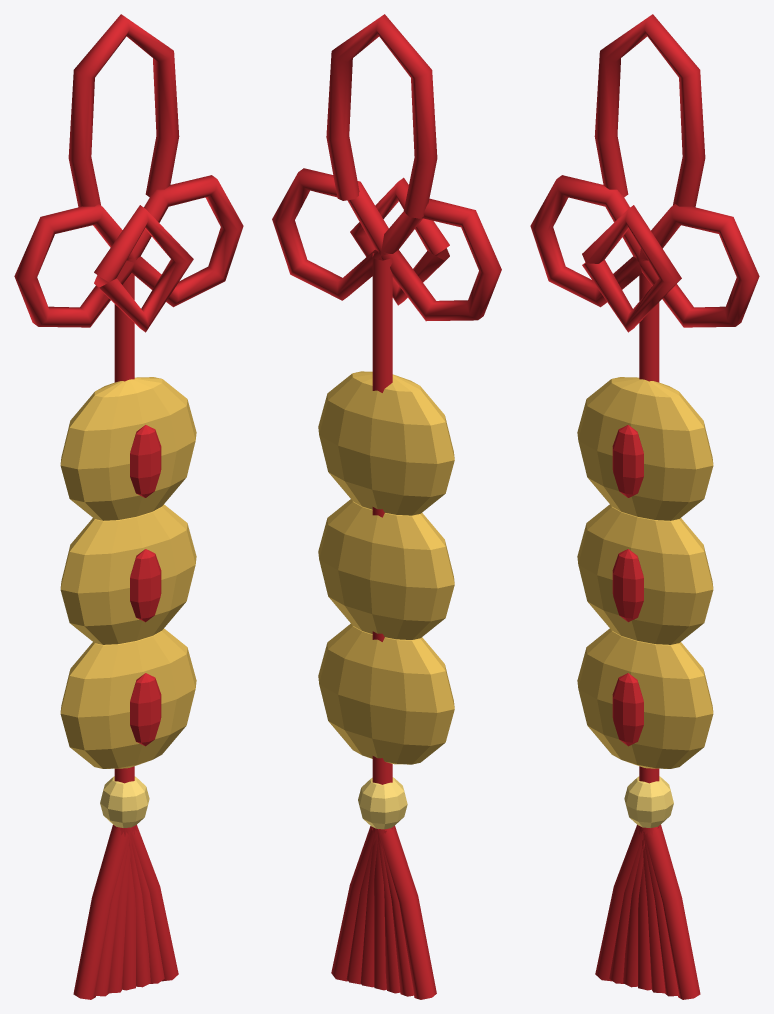
File: Nudo.fbx
3 views of the same model, side by side, from view 1: azimuth 30°, elevation 25°; view 2: azimuth 150°, elevation 25°; view 3: azimuth 330°, elevation 25° (orthographic).
Visible parts, largest first — view 1: Nudo buena fortuna | centro rojo 1, Nudo buena fortuna | asa simétrica; view 2: Nudo buena fortuna | centro rojo 1, Nudo buena fortuna | asa simétrica; view 3: Nudo buena fortuna | centro rojo 1, Nudo buena fortuna | asa simétrica.
Boxes of the visible parts, x1=… form: Nudo buena fortuna | centro rojo 1: x1=60, y1=377, x2=196, y2=827; Nudo buena fortuna | asa simétrica: x1=14, y1=14, x2=243, y2=999; Nudo buena fortuna | centro rojo 1: x1=318, y1=371, x2=454, y2=829; Nudo buena fortuna | asa simétrica: x1=272, y1=14, x2=501, y2=999; Nudo buena fortuna | centro rojo 1: x1=577, y1=377, x2=713, y2=827; Nudo buena fortuna | asa simétrica: x1=530, y1=14, x2=759, y2=999.
Size of the model in its own units: 102 by 422 by 30.78.
